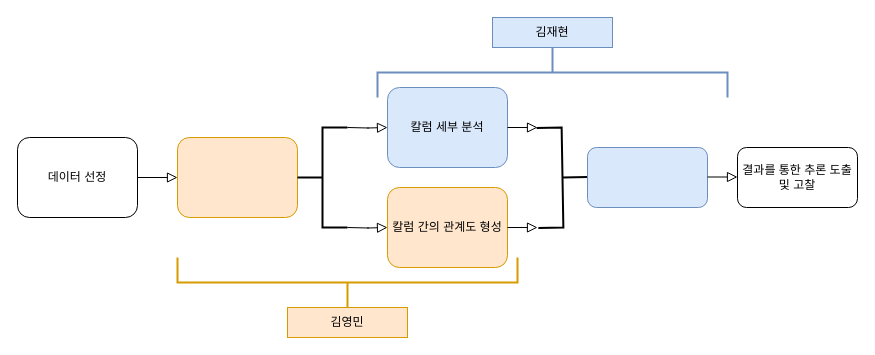
Some shapes in this 875 by 355 pixel diagram are drawn without their labels. The centre of each missing label's shape, as x and y in pixels:
상관 관계가 존재하는 컬럼들 세부 분석: point 647,177
칼럼의 의미 파악/예상: point 237,177
